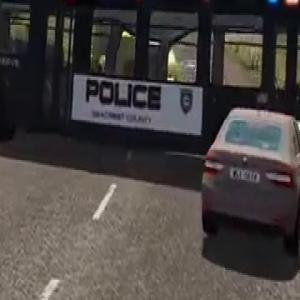critical: (0, 0, 300, 255)
